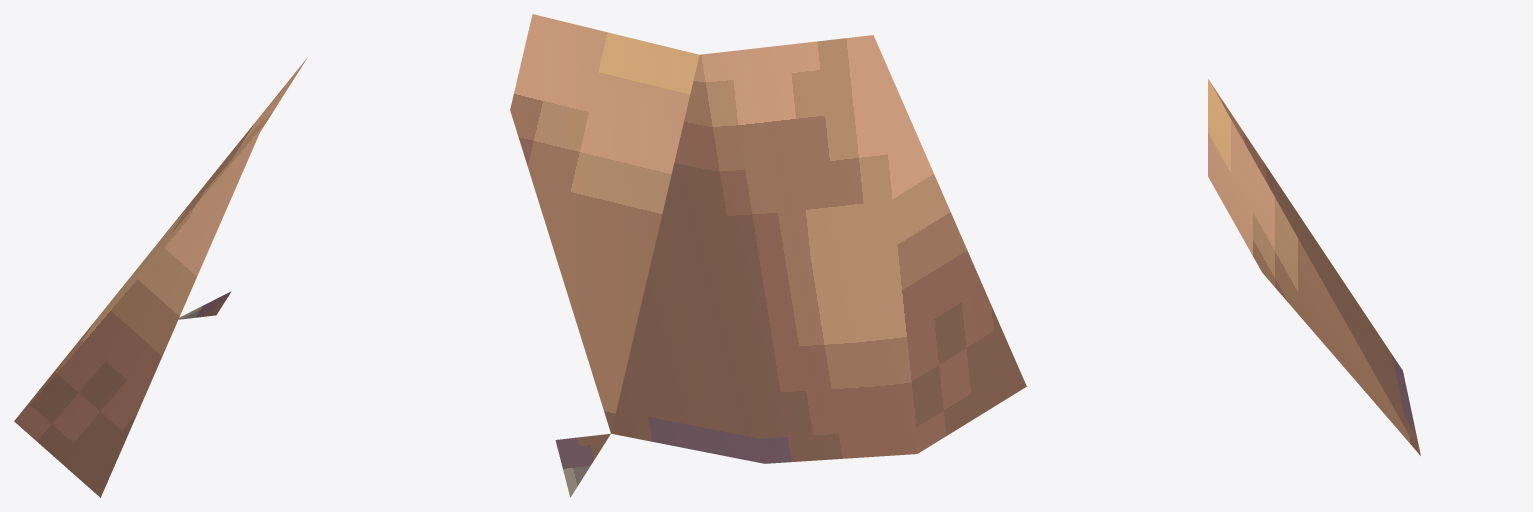
The picture shows the model from 3 angles, left to right: view 1: azimuth 30°, elevation 25°; view 2: azimuth 150°, elevation 25°; view 3: azimuth 270°, elevation 25°; orthographic projection. The views are drawn at different scales.
Size of the model in its own units: 1.29 by 0.9971 by 1.
2 materials, 2 textured.
